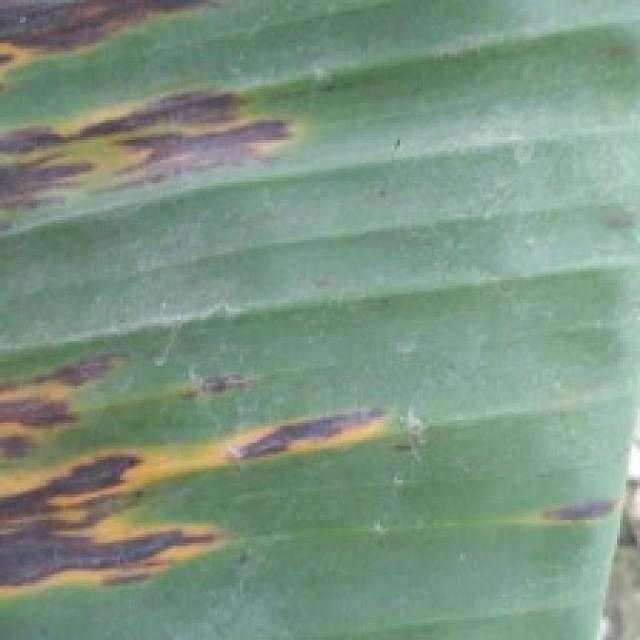Early_leaf_spot: (0, 337, 223, 609), (0, 79, 305, 225), (206, 351, 406, 504), (0, 0, 221, 89), (544, 448, 640, 571)
